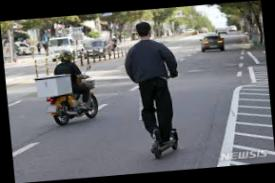nonhelmet: (118, 19, 187, 161)
